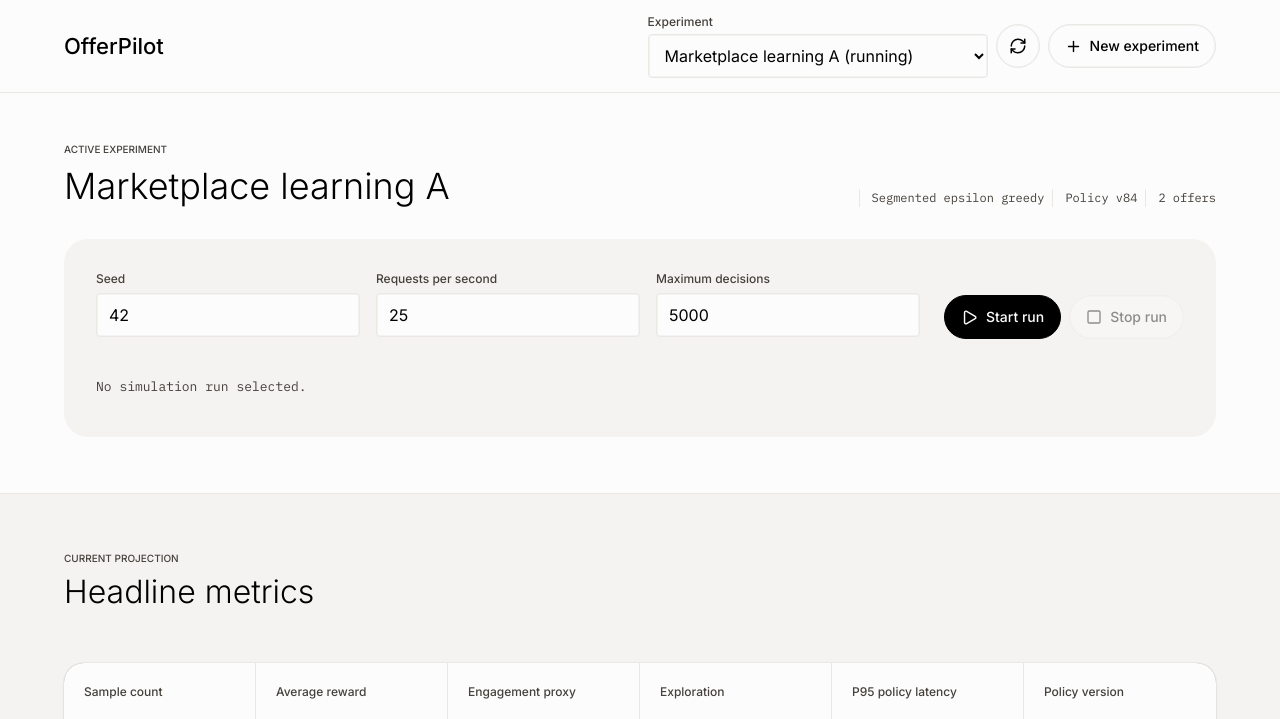
Test: OfferPilot dashboard › validates controls and locks duplicate start and stop commands
The width and height of the screenshot is (1280, 719).
Expected: the heading "Marketplace learning A" is shown, [64, 165, 450, 207]
Clear the number field labelled "Requests per second": point(508, 316) [376, 294, 640, 338]
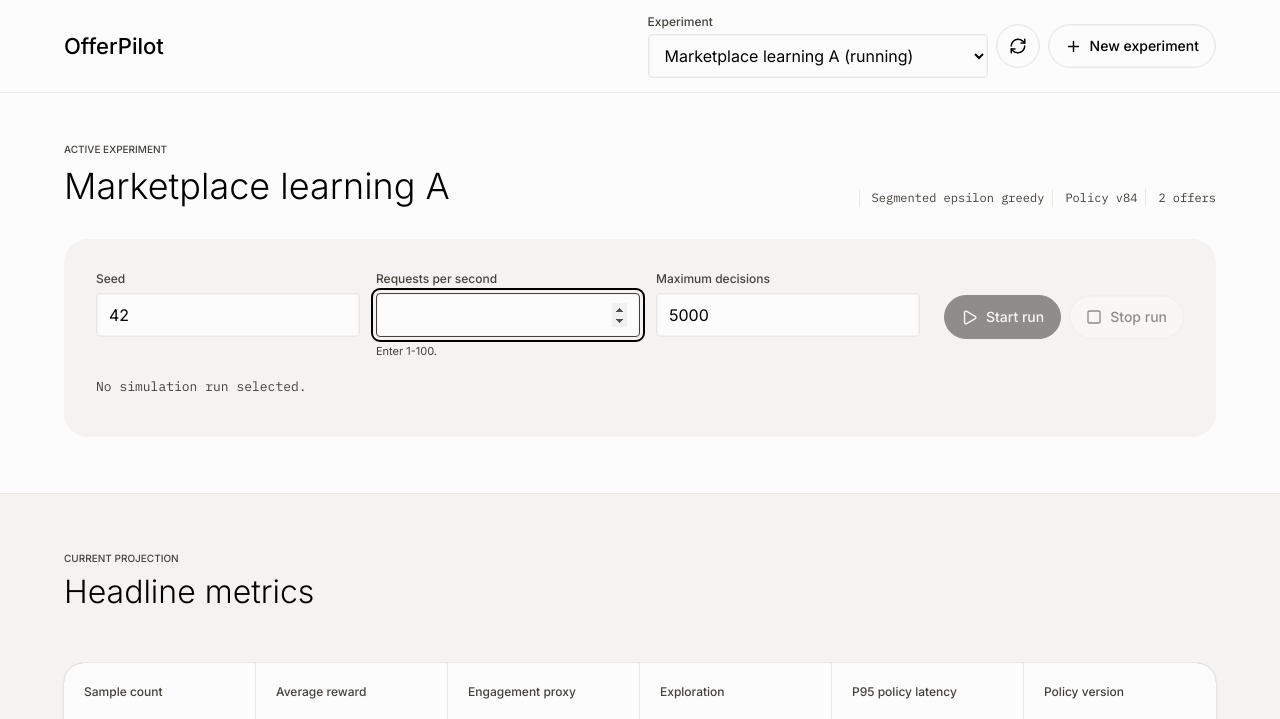
Expected: the button "Start run" is disabled, [944, 295, 1061, 339]
In the number field labelled "Requests per second": point(508, 316) [376, 294, 640, 338], type "10"
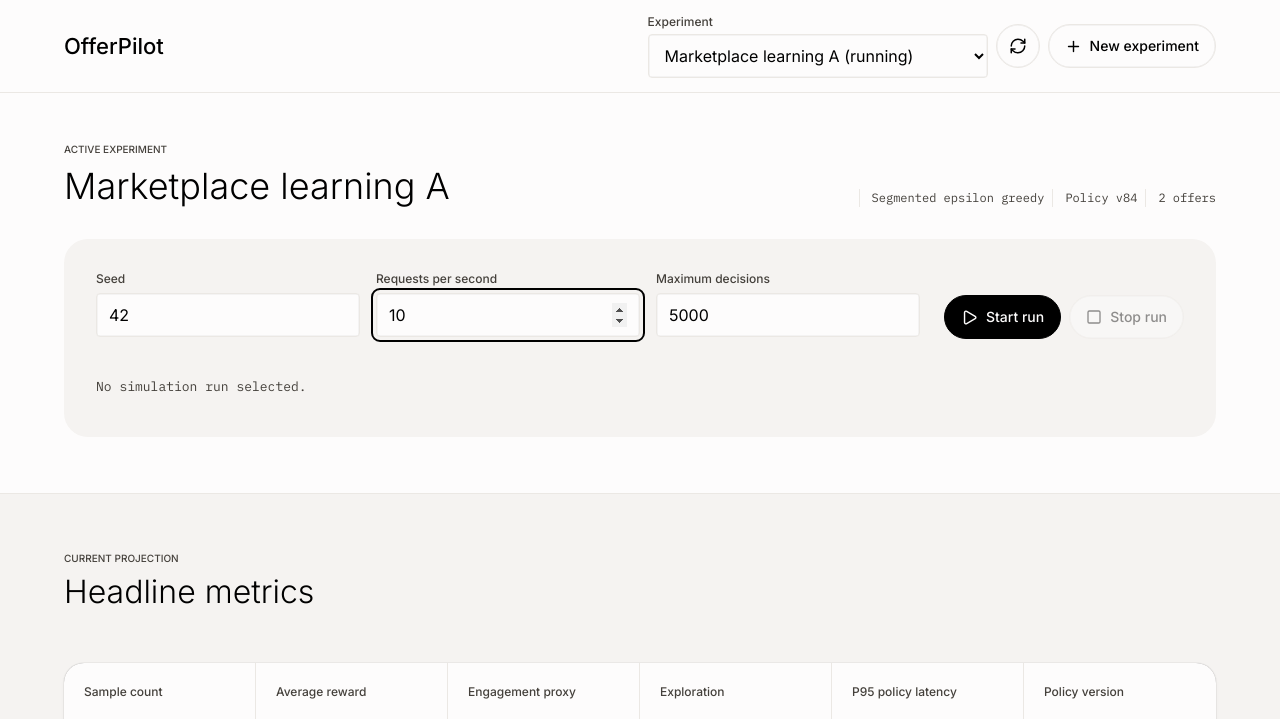
Submit the form "Start run", box [64, 239, 1216, 438]
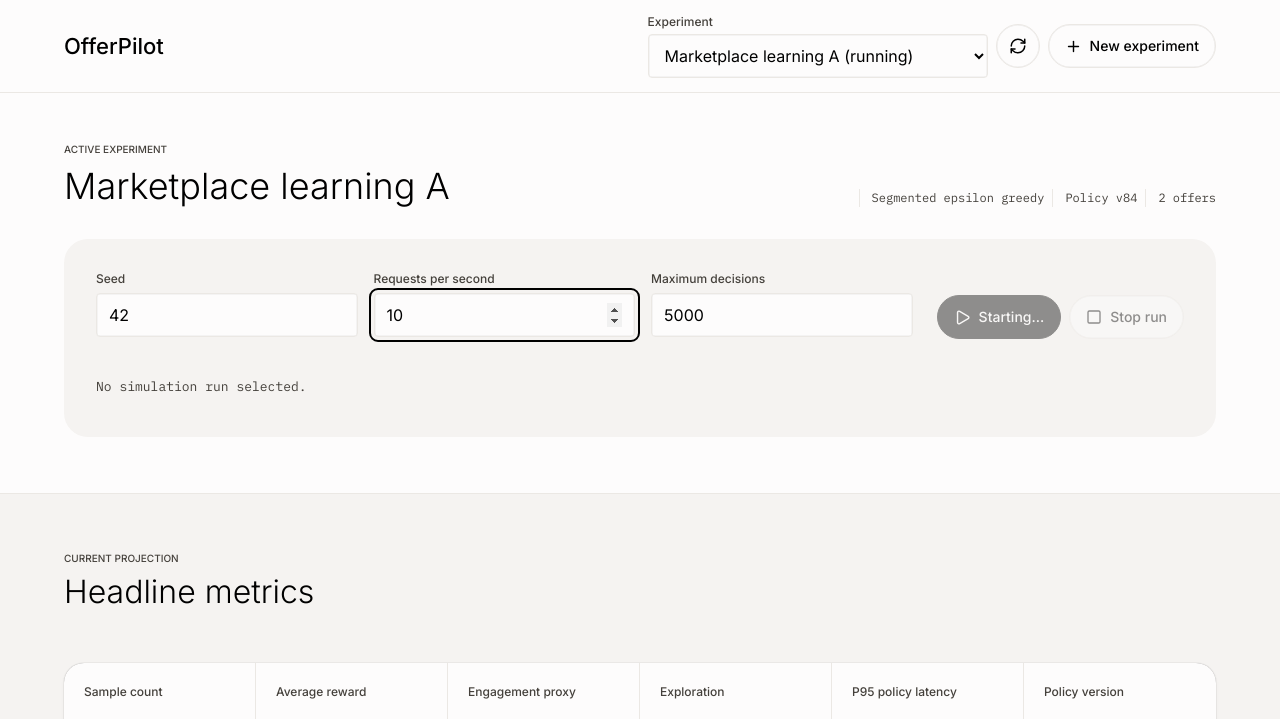
Submit the form named "Start run", box [64, 239, 1216, 438]
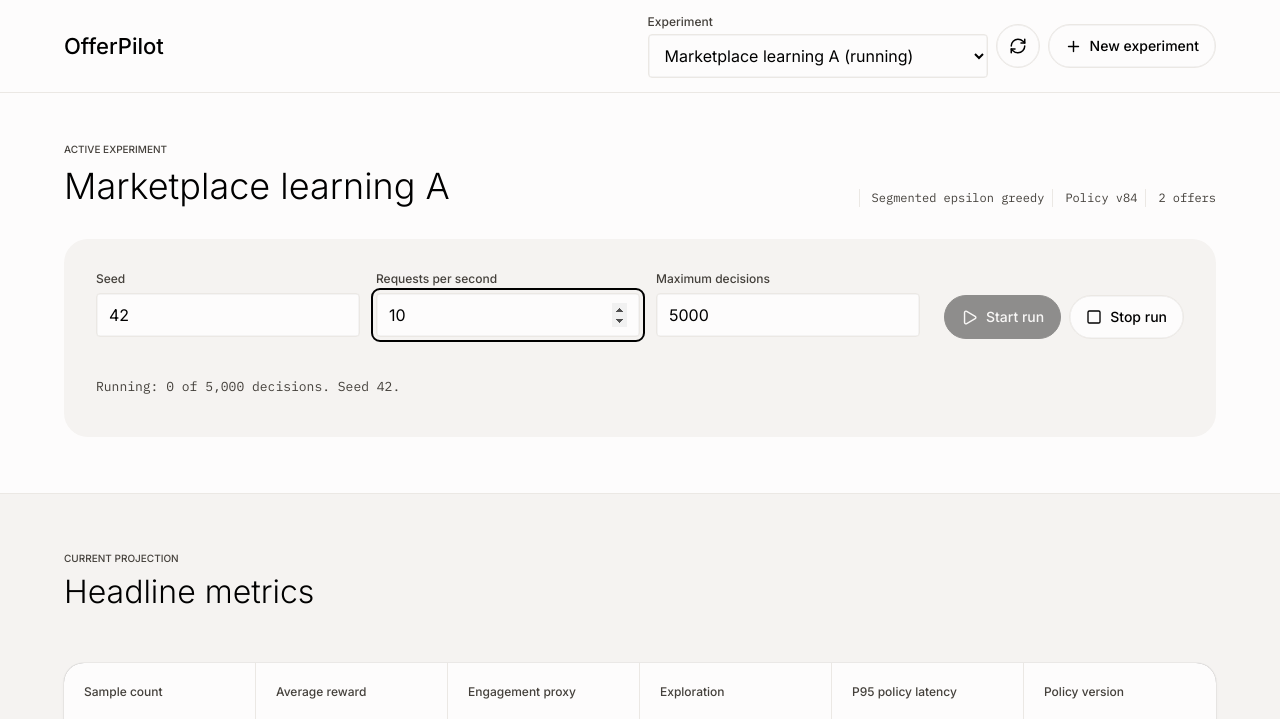
Expected: the text "Running: 0 of 5,000 decisions. Seed 42." is shown, [96, 378, 400, 396]
Expected: the button "Stop run" is enabled
Click the button "Stop run": point(1127, 317) [1069, 295, 1184, 339]
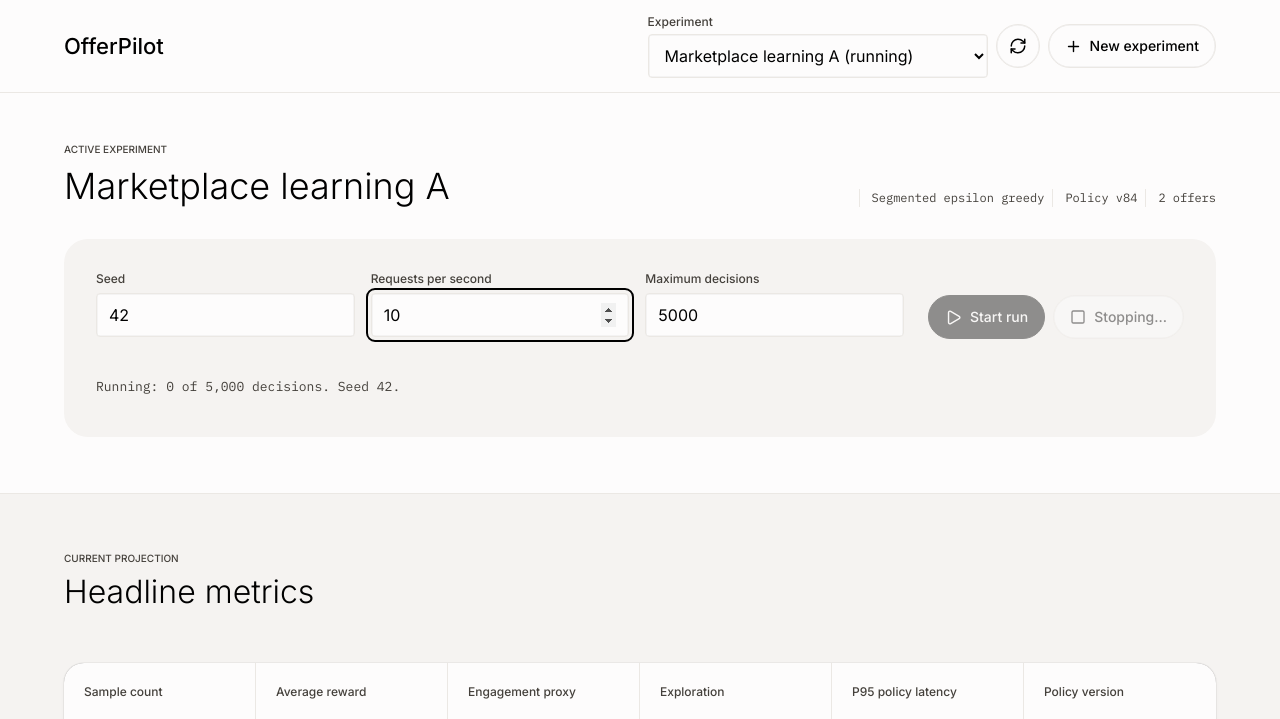
Click the button named "Stop run": point(1119, 317) [1053, 295, 1184, 339]
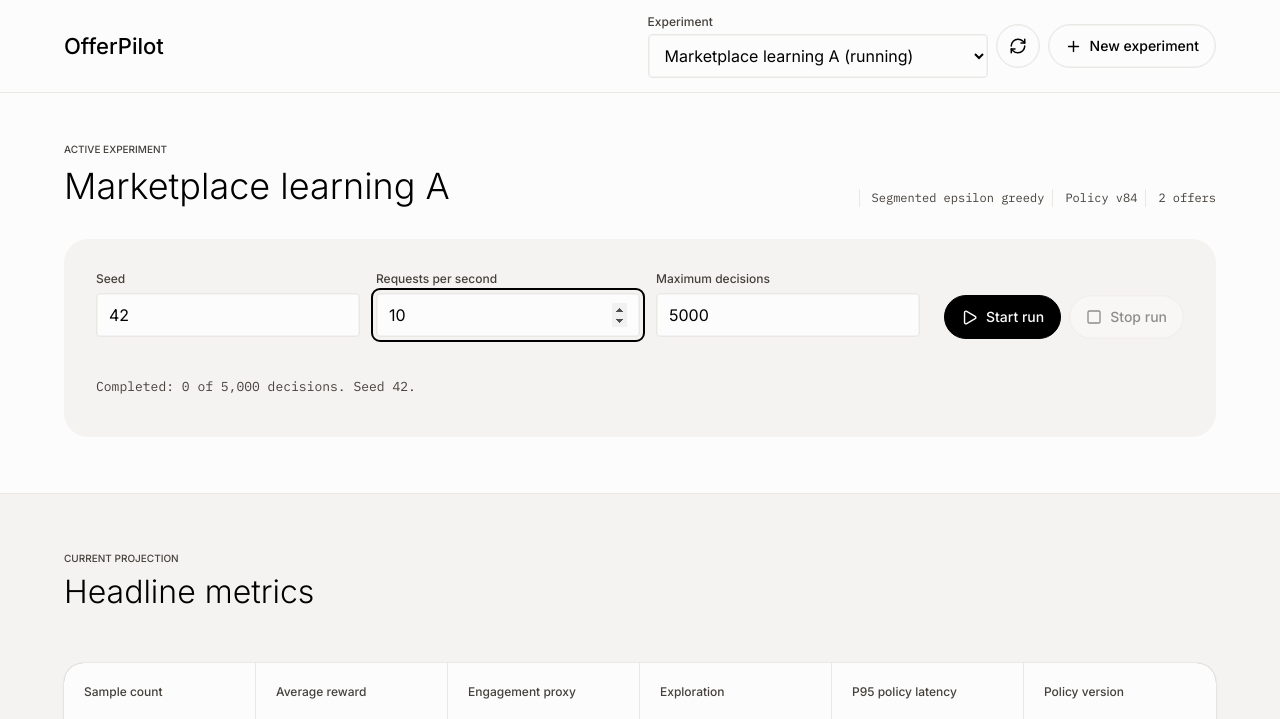
Expected: the text "Completed: 0 of 5,000 decisions. Seed 42." is shown, [96, 378, 416, 396]
Expected: the button "Start run" is enabled, [944, 295, 1061, 339]
